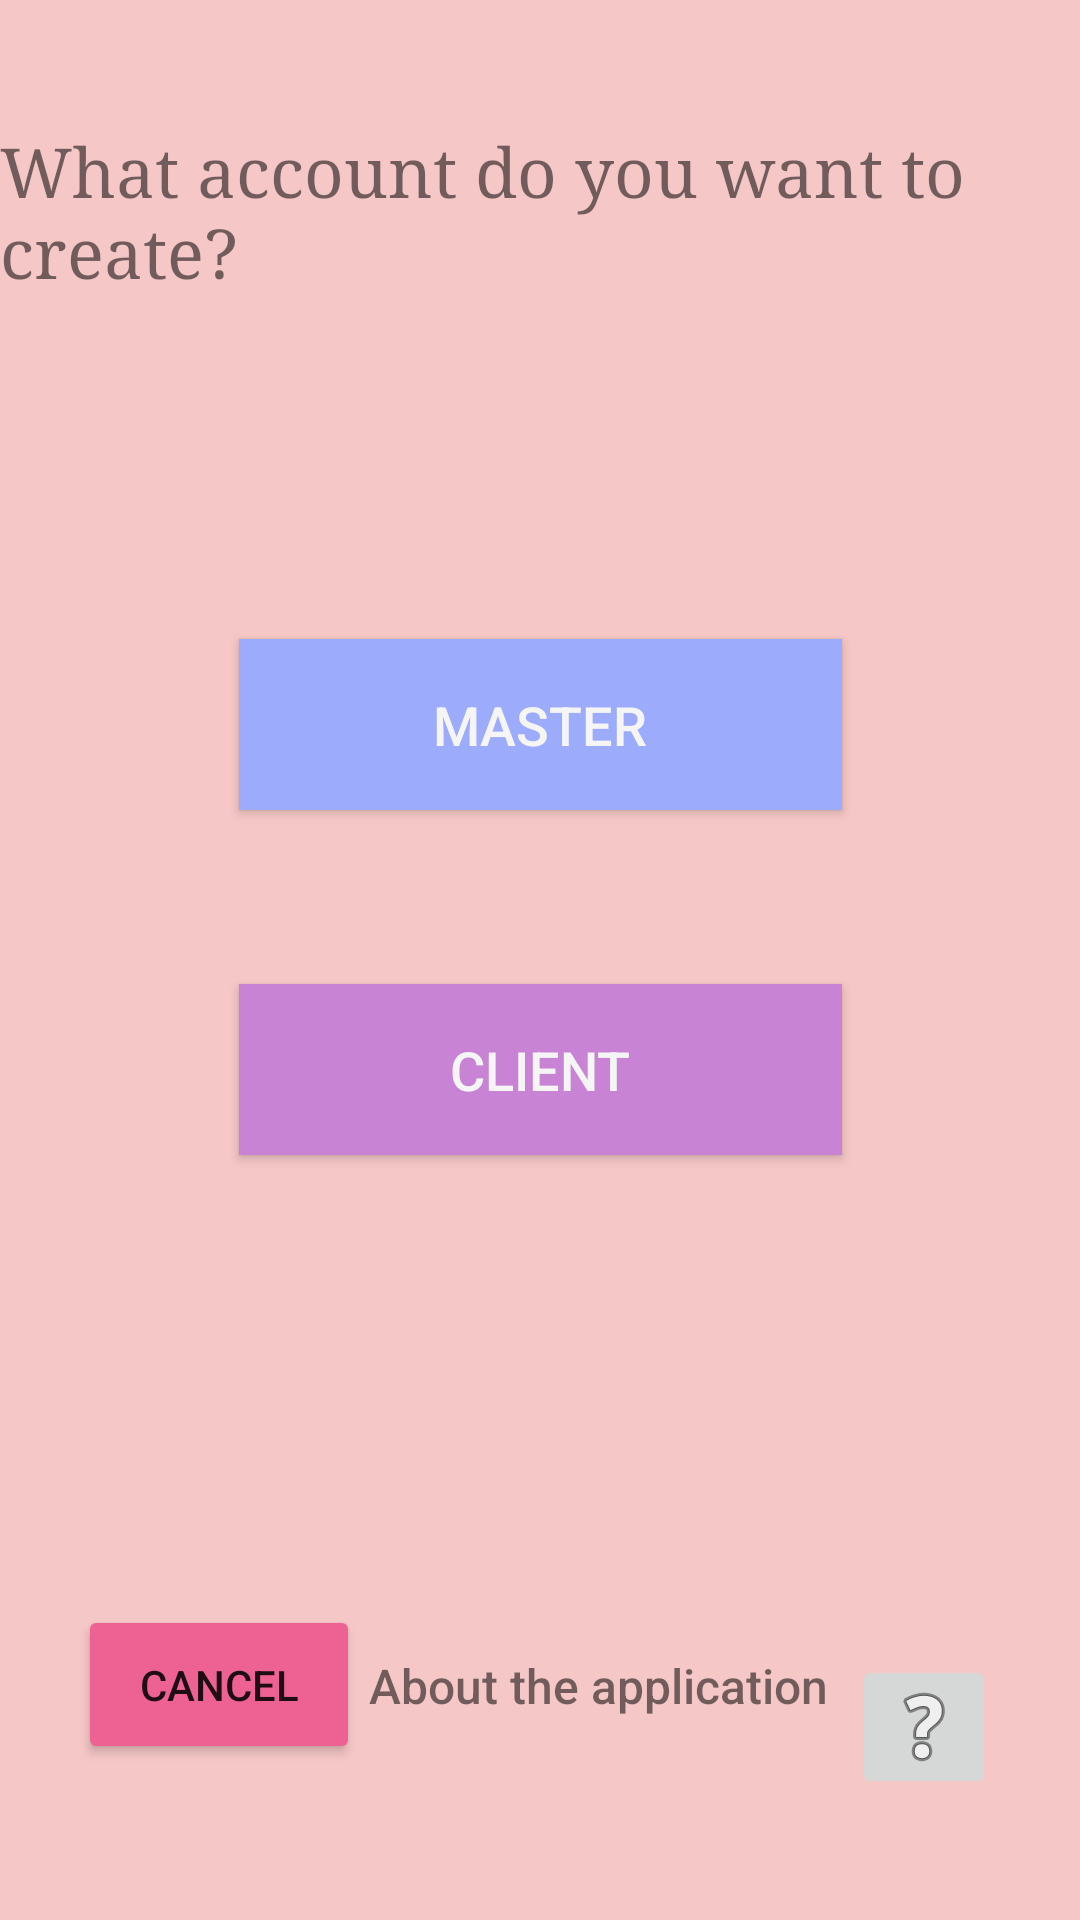

Locate icon controls on the screen. Image size 1080 x 1920, boxes as [x1=x1, y1=y1, x2=x2, y2=y2].
help: [x1=864, y1=1673, x2=984, y2=1781]
